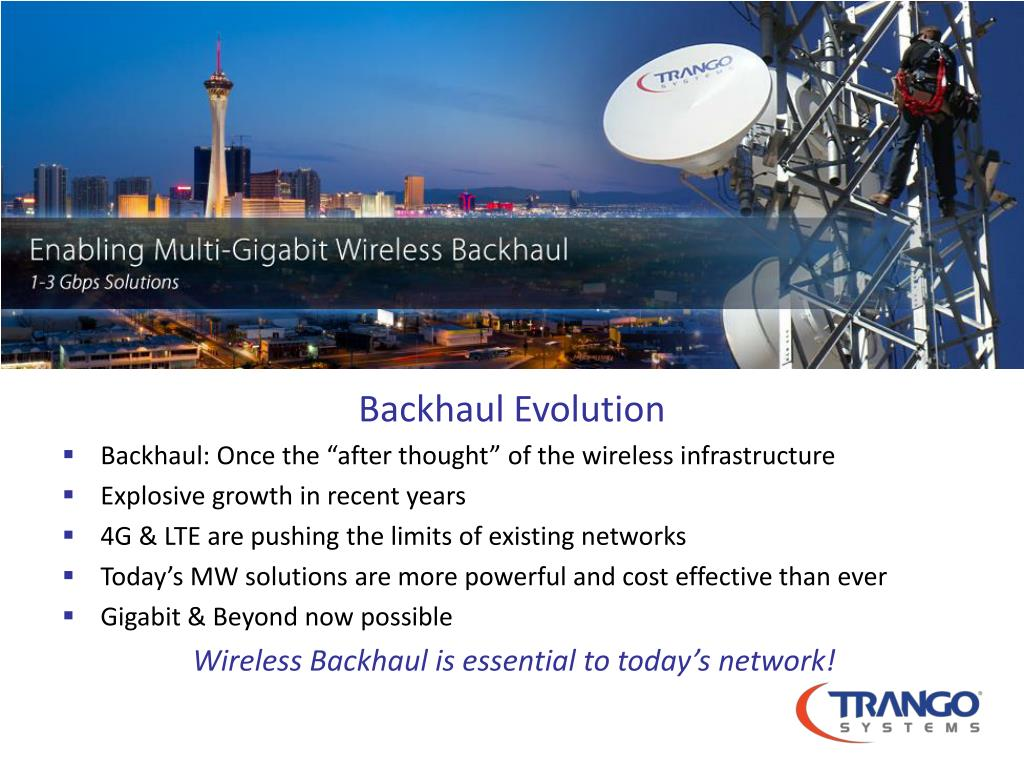ba: (595, 45, 775, 168)
